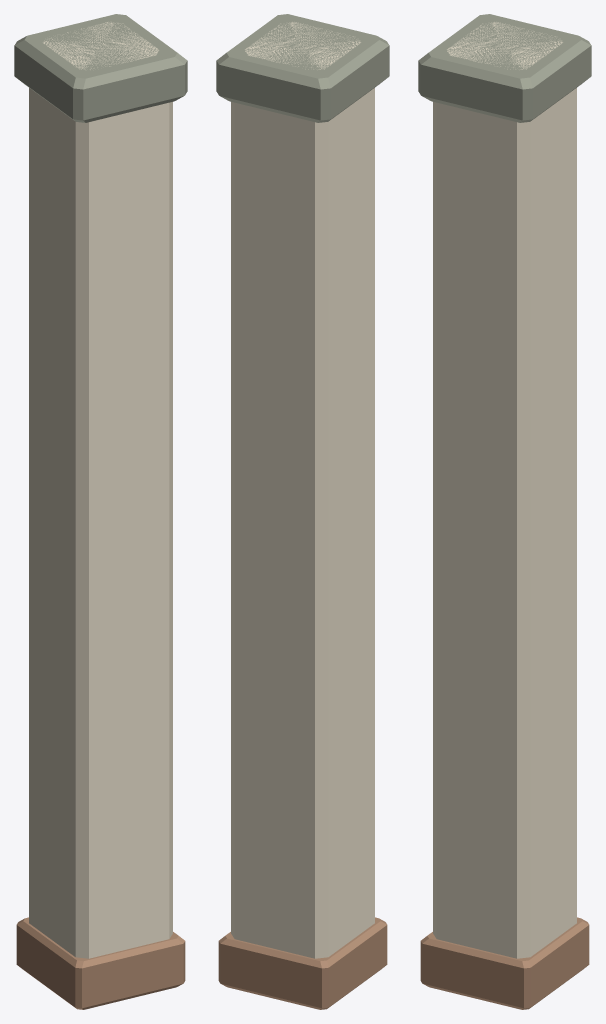
File: lab_wall_corner.glb
The picture shows the model from 3 angles, left to right: view 1: azimuth 30°, elevation 25°; view 2: azimuth 150°, elevation 25°; view 3: azimuth 330°, elevation 25°; orthographic projection.
Parts seen in each view (by area): view 1: lab_wall_corner; view 2: lab_wall_corner; view 3: lab_wall_corner.
Part boxes in pixels (<box>): lab_wall_corner: <box>14,14,187,1009</box>; lab_wall_corner: <box>216,14,389,1009</box>; lab_wall_corner: <box>418,14,591,1009</box>.
Size of the model in its own units: 0.54 by 4.2 by 0.54.
